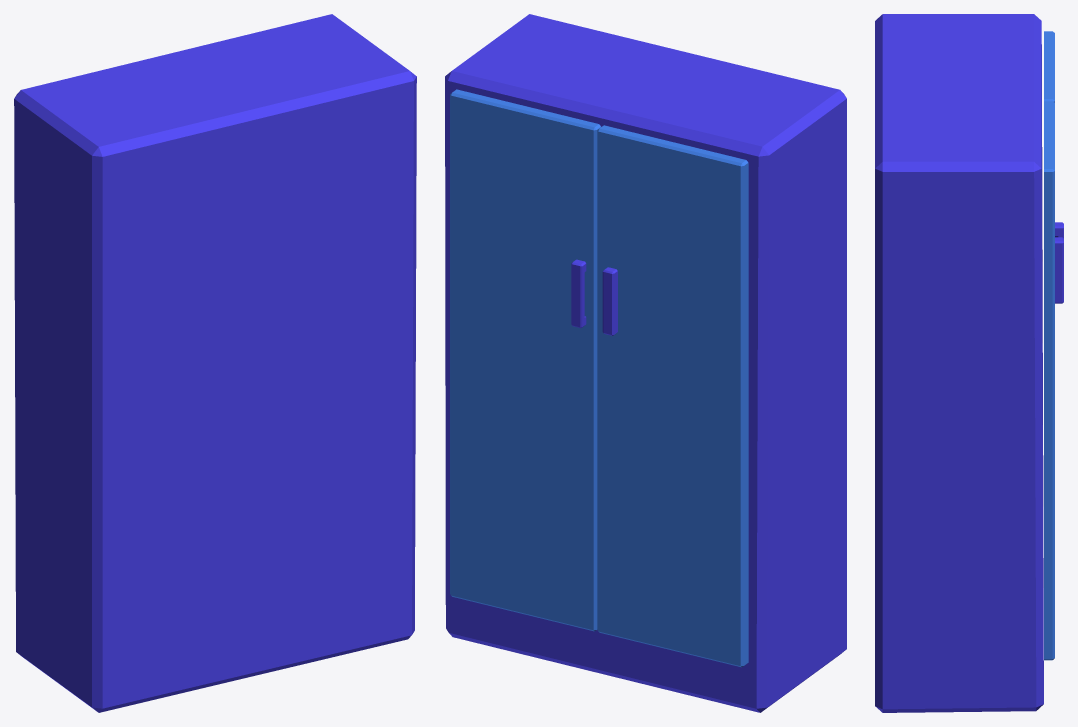
Rendered from Closet_01.glb.
3 renders of one model, left to right at view 1: azimuth 30°, elevation 25°; view 2: azimuth 150°, elevation 25°; view 3: azimuth 270°, elevation 25°, orthographic. The views are drawn at different scales.
Visible parts, largest first — view 1: Closet; view 2: Closet; view 3: Closet.
Boxes of the visible parts, left/top/right/bottom form: Closet: left=14, top=14, right=416, bottom=712; Closet: left=445, top=14, right=846, bottom=712; Closet: left=875, top=14, right=1063, bottom=712.
Bounding box in the file's own units: 1.19 × 1.99 × 0.6174.
Materials: 1 (1 with a texture image).
